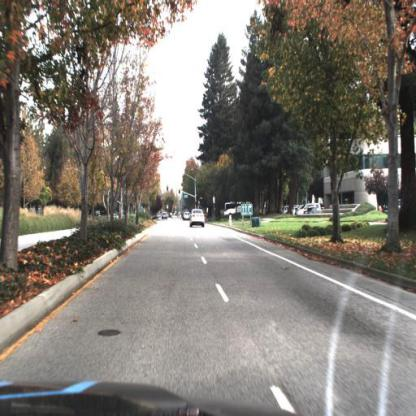car: (351, 195, 375, 218), (294, 202, 323, 218), (189, 208, 207, 230), (162, 211, 170, 221)
